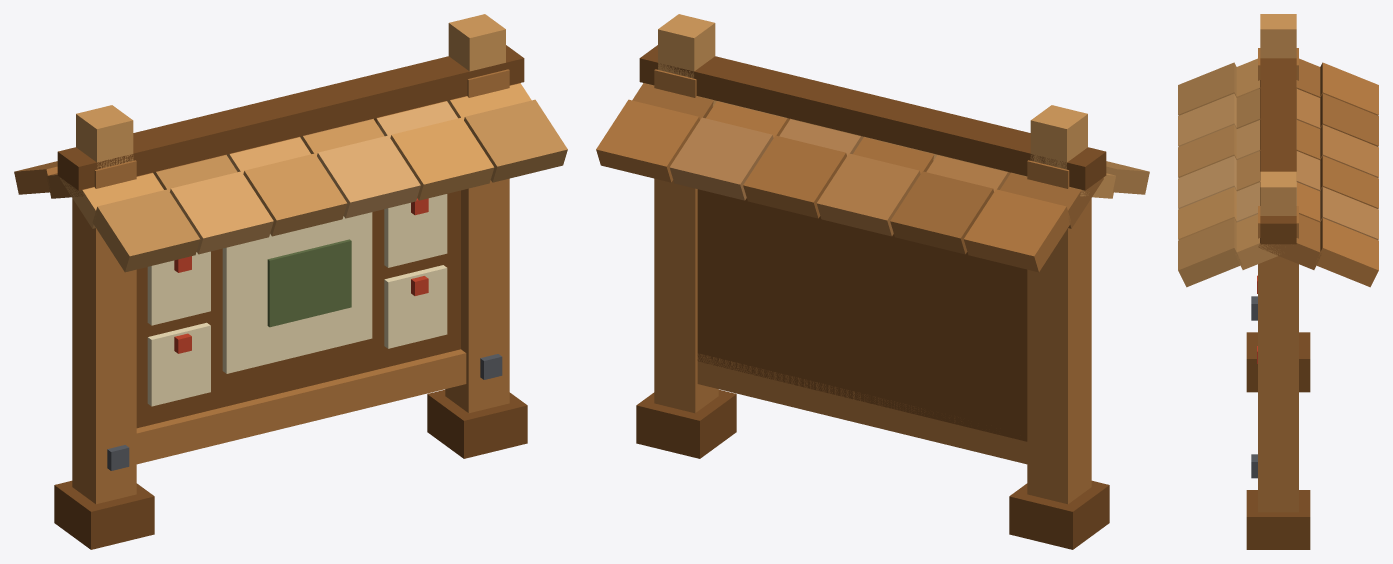
The model's file is prop-board.glb.
The picture shows the model from 3 angles, left to right: view 1: azimuth 30°, elevation 25°; view 2: azimuth 150°, elevation 25°; view 3: azimuth 270°, elevation 25°; orthographic projection. The views are drawn at different scales.
Visible parts, largest first — view 1: Ridge, Post, Backing, Map, Rail, Post.001, RoofF_t, MapInk, RoofF_t.004, RoofF_t.002, RoofF_t.001, RoofF_t.003 (+16 smaller); view 2: Backing, Post, Ridge, Post.001, Rail, RoofB_t.006, RoofB_t.010, RoofB_t.008, RoofB_t.007, RoofB_t.009, RoofB_t.011, Base (+10 smaller); view 3: Post.001, Ridge, Base.001, RoofF_t.005, RoofB_t.011, RoofB_t.007, RoofF_t.001, RoofB_t.008, RoofB_t.009, RoofF_t.002, RoofF_t.003, RoofF_t.004 (+18 smaller).
Boxes of the visible parts, <box> form: Ridge: <box>57,45,524,190</box>; Post: <box>72,160,136,504</box>; Backing: <box>136,190,460,428</box>; Map: <box>222,212,372,373</box>; Rail: <box>136,349,466,464</box>; Post.001: <box>445,69,509,413</box>; RoofF_t: <box>92,189,200,272</box>; MapInk: <box>267,239,351,327</box>; RoofF_t.004: <box>390,117,494,200</box>; RoofF_t.002: <box>243,153,347,236</box>; RoofF_t.001: <box>170,171,273,254</box>; RoofF_t.003: <box>317,135,420,218</box>; Backing: <box>697,189,1027,441</box>; Post: <box>1027,160,1091,504</box>; Ridge: <box>639,45,1106,190</box>; Post.001: <box>654,69,718,413</box>; Rail: <box>697,353,1027,464</box>; RoofB_t.006: <box>963,189,1070,272</box>; RoofB_t.010: <box>669,117,773,200</box>; RoofB_t.008: <box>816,153,920,236</box>; RoofB_t.007: <box>890,171,993,254</box>; RoofB_t.009: <box>743,135,846,218</box>; RoofB_t.011: <box>596,99,699,182</box>; Base: <box>1009,480,1109,549</box>; Post.001: <box>1258,206,1298,512</box>; Ridge: <box>1260,58,1296,244</box>; Base.001: <box>1246,490,1310,549</box>; RoofF_t.005: <box>1178,218,1242,287</box>; RoofB_t.011: <box>1316,218,1378,287</box>; RoofB_t.007: <box>1320,93,1378,146</box>; RoofF_t.001: <box>1178,93,1236,146</box>; RoofB_t.008: <box>1320,124,1378,177</box>; RoofB_t.009: <box>1320,156,1378,208</box>; RoofF_t.002: <box>1178,124,1236,177</box>; RoofF_t.003: <box>1178,156,1236,208</box>; RoofF_t.004: <box>1178,187,1236,239</box>.
Size of the model in its own units: 1.96 by 1.73 by 0.8815.
